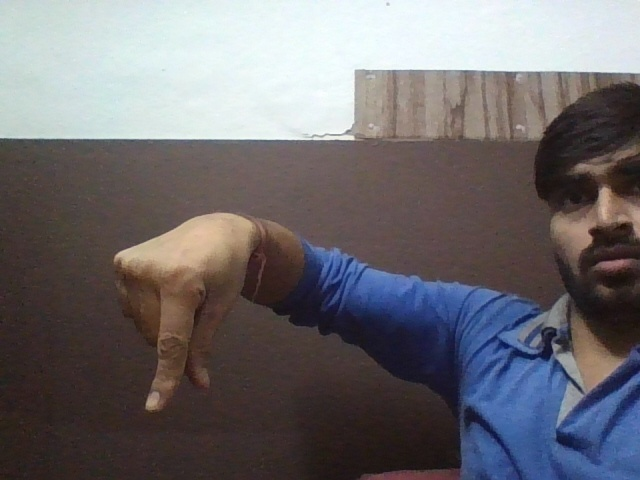Q: (106, 219, 257, 421)
